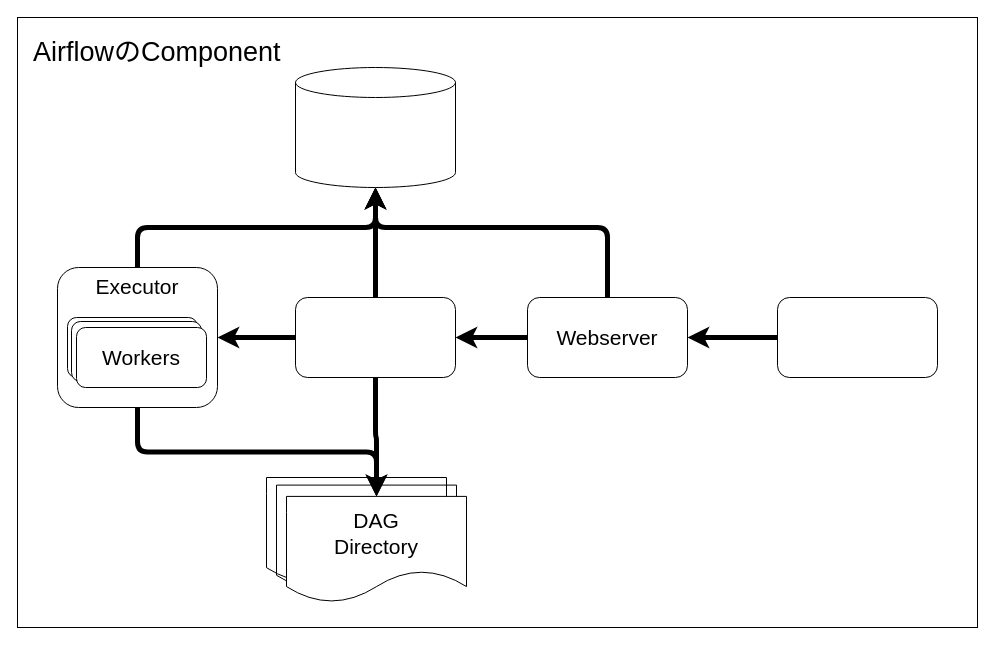
The diagram is 995 pixels wide and 645 high, and some of its shapes have lost their labels. The centre of each missing label's shape, as x and y in pixels:
Metadata Databese: [375,127]
Scheduler: [375,337]
User Interface: [857,337]
